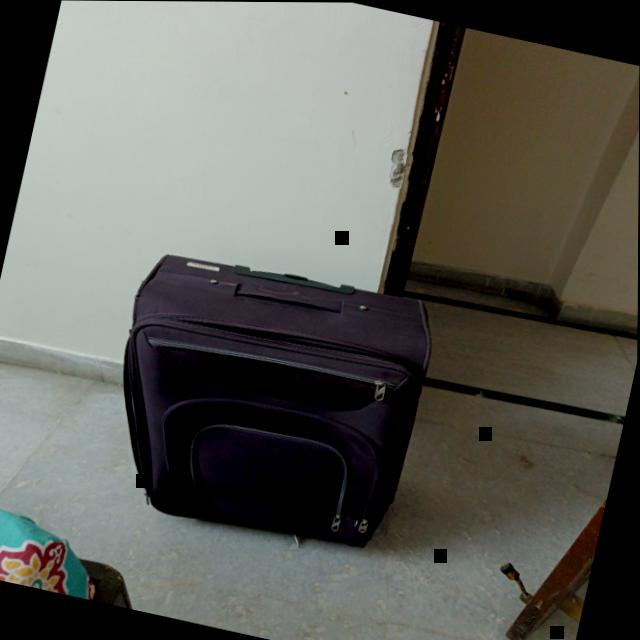luggage: (122, 255, 432, 549)
